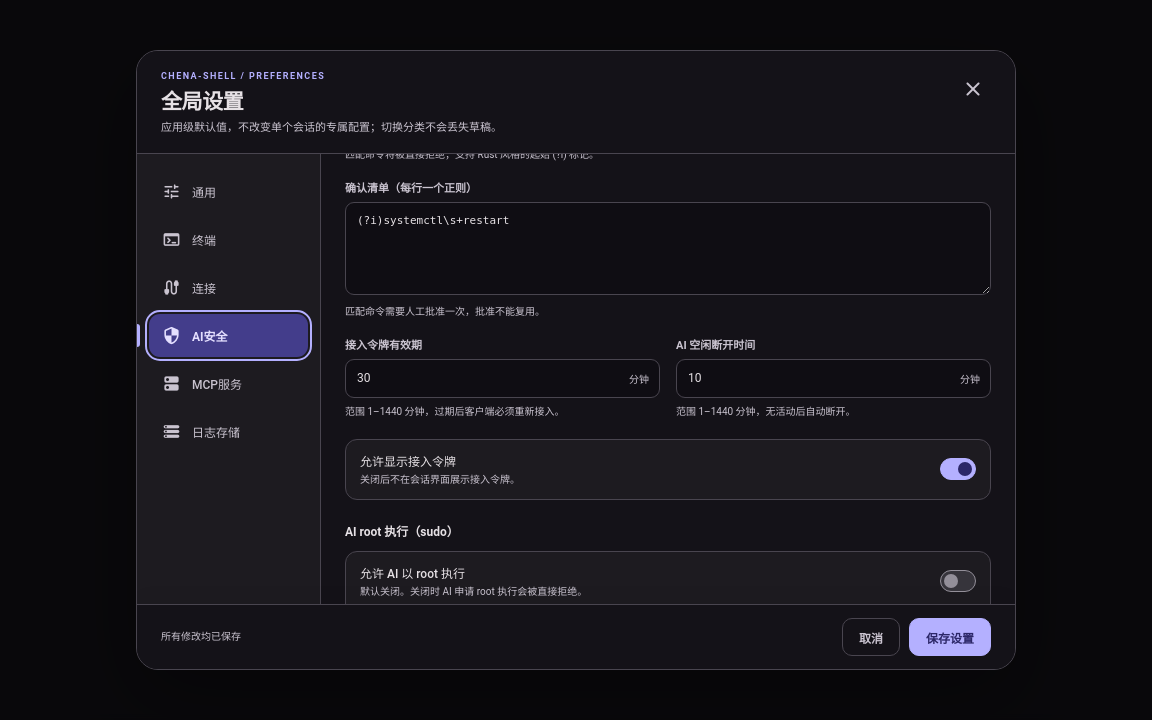
SettingsDialog 输入校验 › 阻止 ai 分类的越界数值
(page scrolled)
Replace the text in the number field labelled "接入令牌有效期" with "0": x=502, y=378 [345,359,660,398]
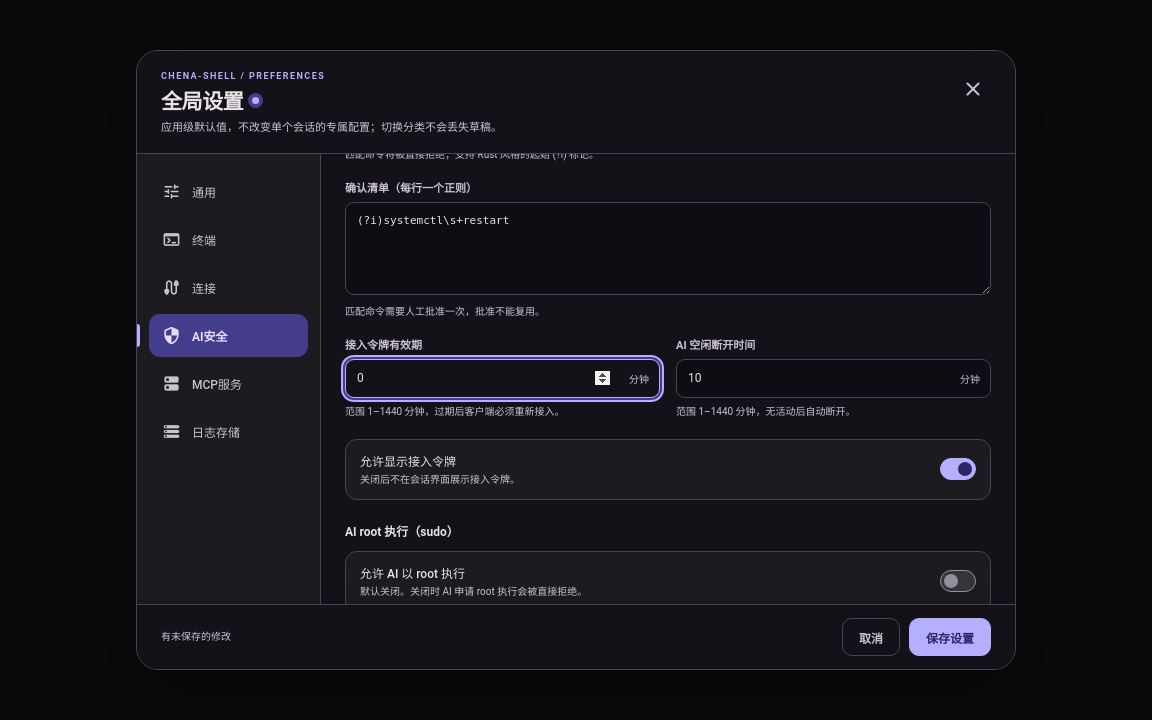
Click the button "保存设置": x=950, y=637 [909,618,991,656]
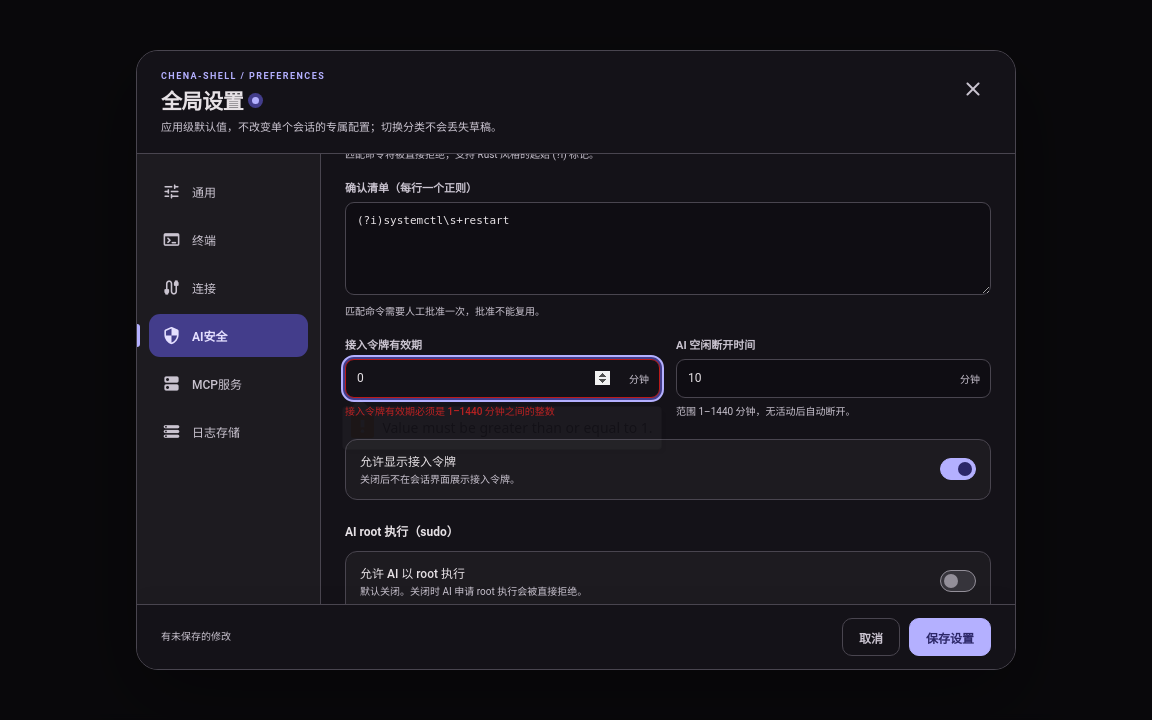
Expected: the message shows "接入令牌有效期必须是 1–1440", [345,406,555,417]
